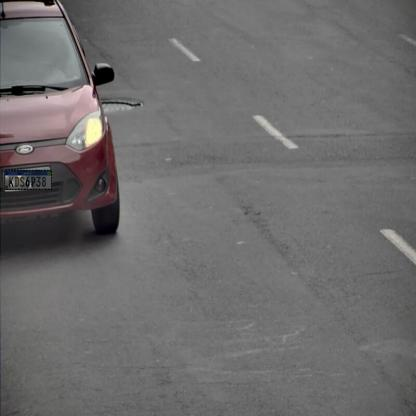PlacaM: (4, 170, 52, 190)
